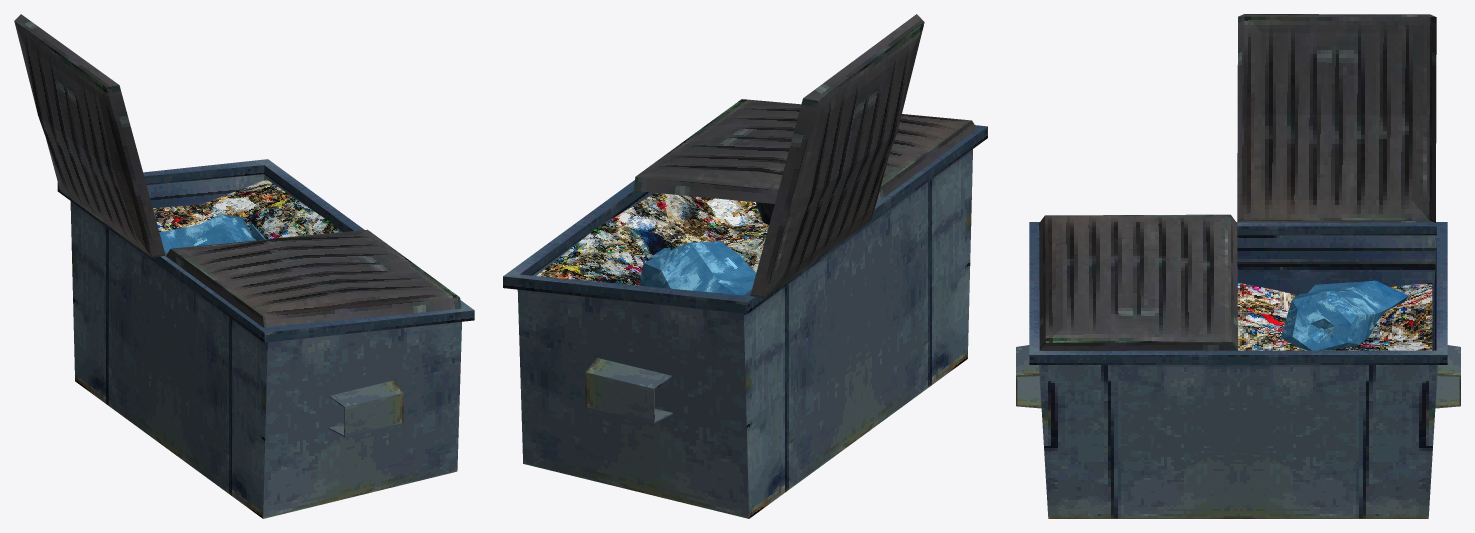
File: dumpster_diagonal_full_open_blue.glb
3 views of the same model, side by side, from view 1: azimuth 30°, elevation 25°; view 2: azimuth 150°, elevation 25°; view 3: azimuth 270°, elevation 25° (orthographic). The views are drawn at different scales.
Parts seen in each view (by area): view 1: dumpster_diagonal_full_open_blue; view 2: dumpster_diagonal_full_open_blue; view 3: dumpster_diagonal_full_open_blue.
Boxes of the visible parts, <box> form: dumpster_diagonal_full_open_blue: <box>14,14,474,518</box>; dumpster_diagonal_full_open_blue: <box>503,14,987,518</box>; dumpster_diagonal_full_open_blue: <box>1016,14,1460,518</box>.
Bounding box in the file's own units: 2.53 × 3.48 × 3.67.
3 materials, 3 textured.
